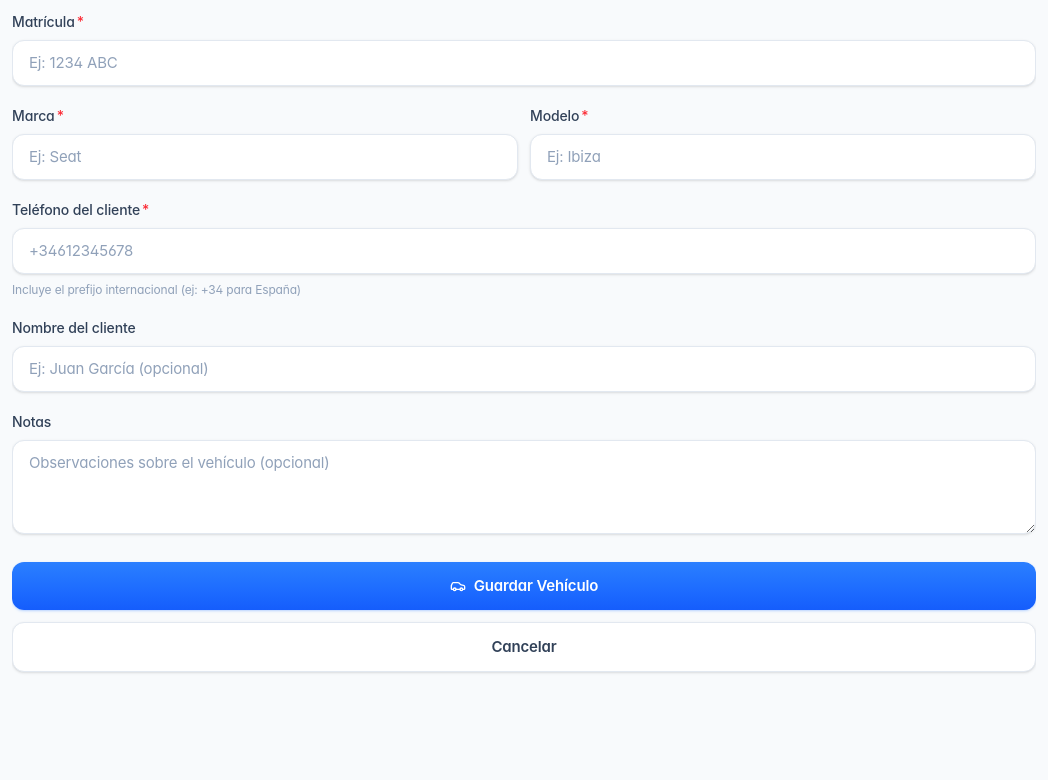
Edición de vehículos — validación de matrícula duplicada (Req 4.4) › valida client-side que el teléfono tenga formato internacional
The width and height of the screenshot is (1048, 780).
// First textbox is matrícula
Type "ABC1234" into the field labelled "Matrícula*" at (524, 63), box top-left (12, 40), bottom-right (1036, 86)
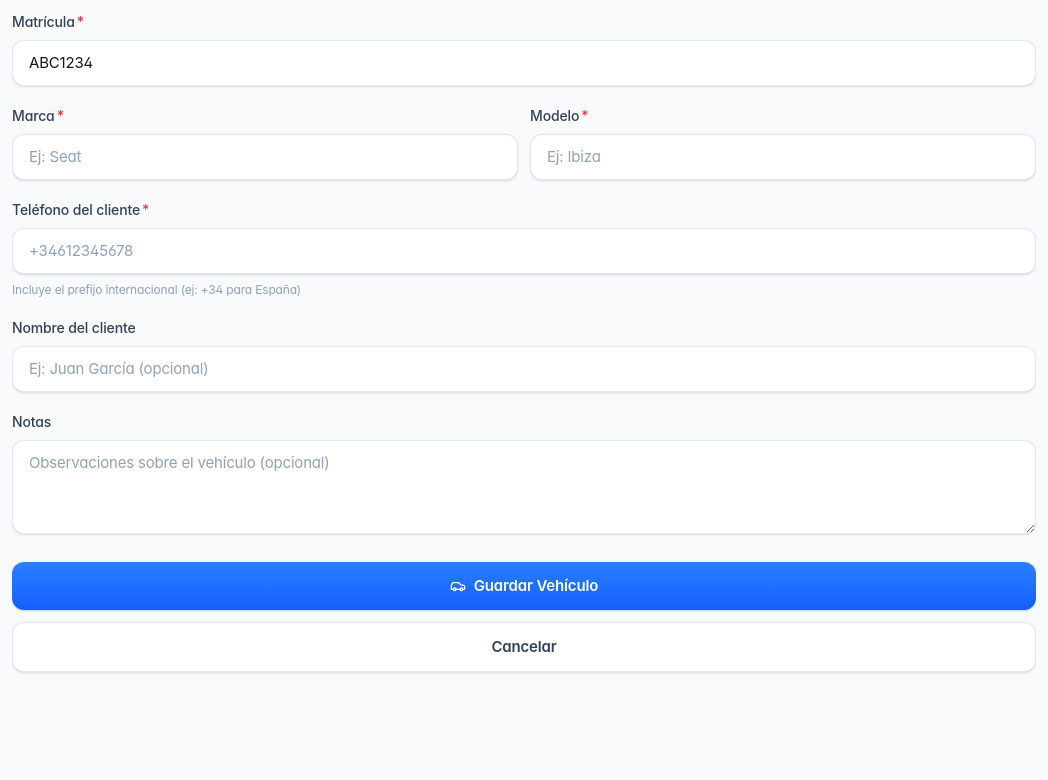
Type "612345678" into the field with placeholder "+34612345678" at (524, 251), box top-left (12, 228), bottom-right (1036, 274)
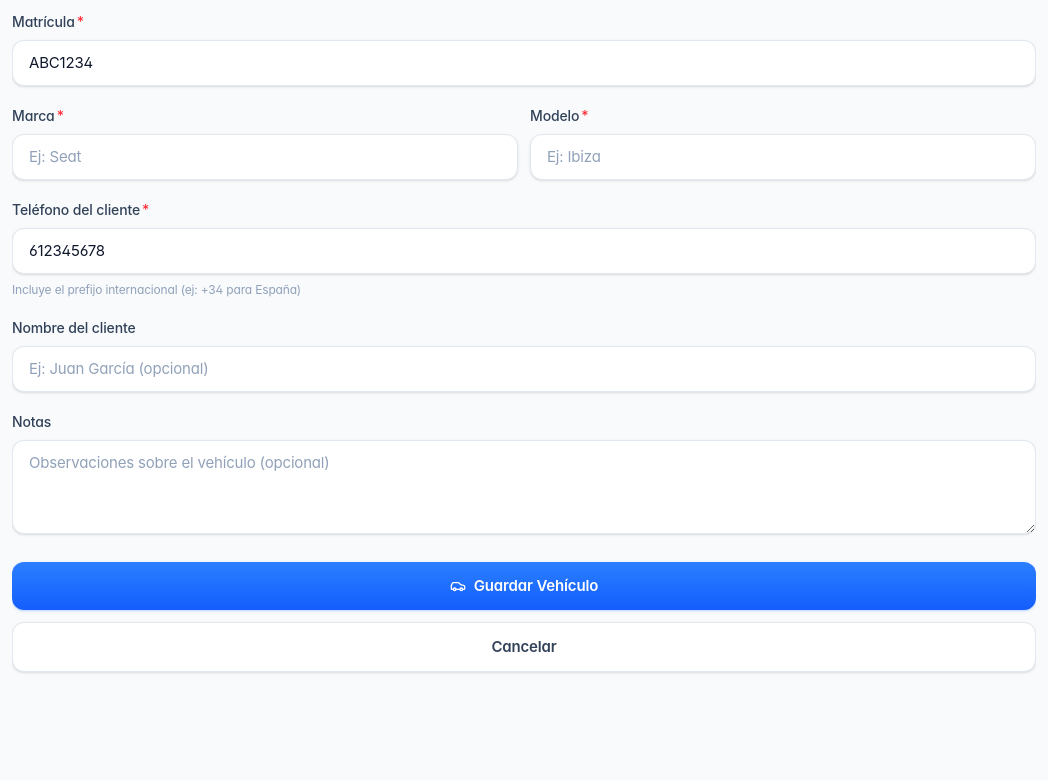
Submit the text "Guardar Vehículo"
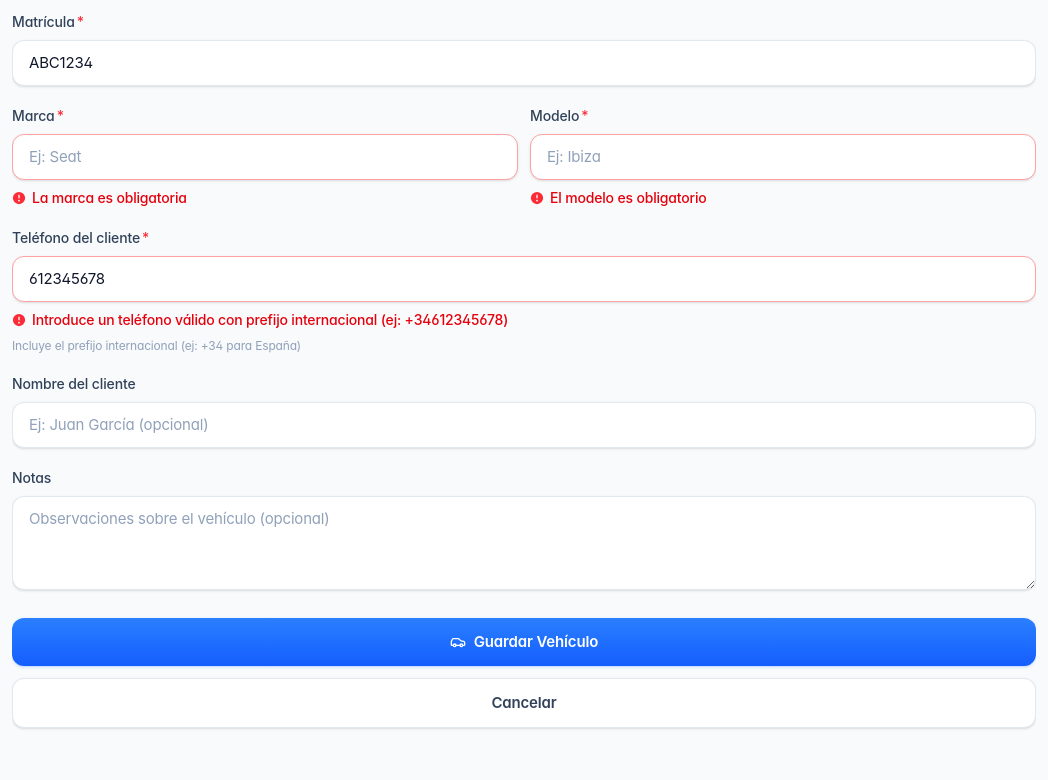
expect the text "Introduce un teléfono válido con prefijo internacional (ej: +34612345678)" is shown: met, box top-left (32, 310), bottom-right (508, 330)
